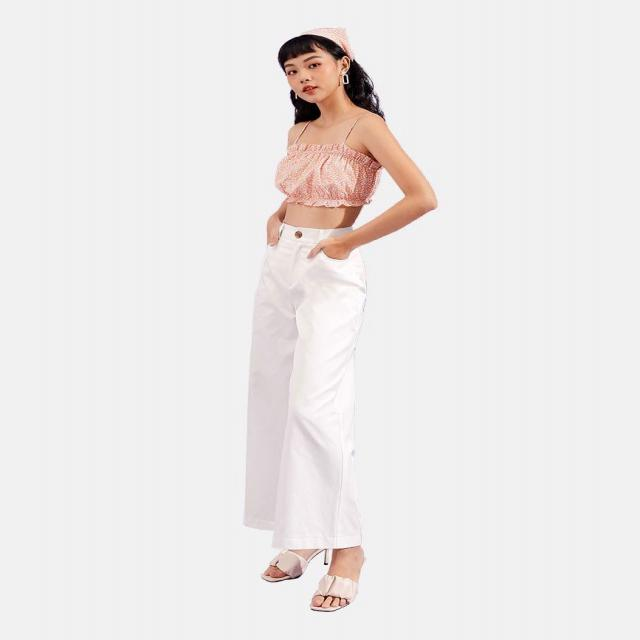clothes: (240, 108, 387, 543)
